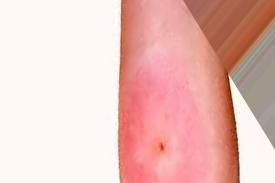Spider: (131, 82, 208, 182)
